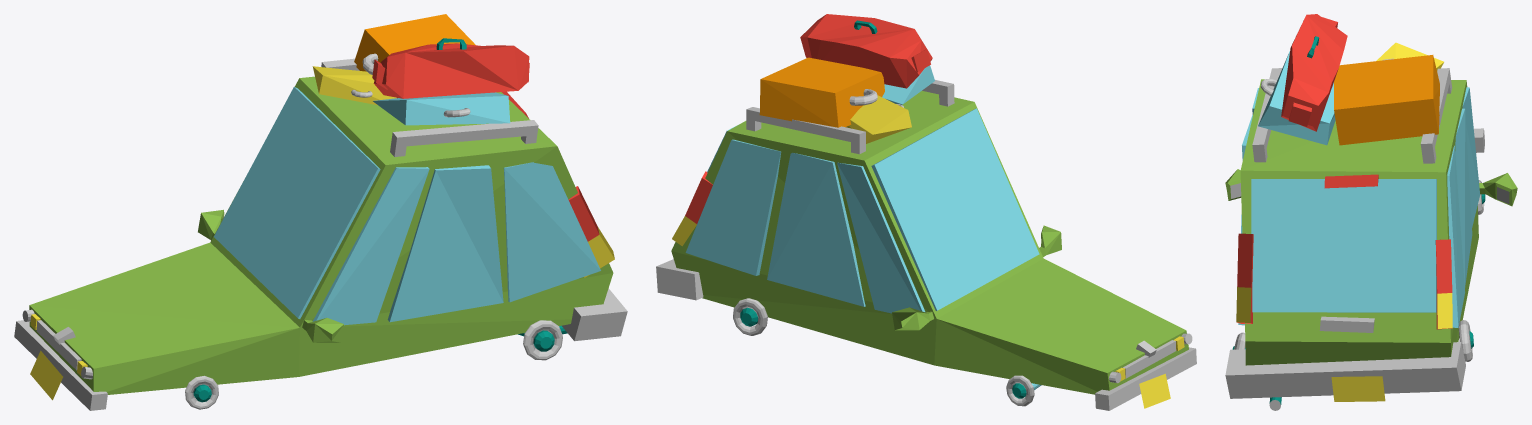
The model's file is car.obj.
The picture shows the model from 3 angles, left to right: view 1: azimuth 30°, elevation 25°; view 2: azimuth 150°, elevation 25°; view 3: azimuth 270°, elevation 25°; orthographic projection. The views are drawn at different scales.
Bounding box in the file's own units: 1.02 × 0.5744 × 0.496.
